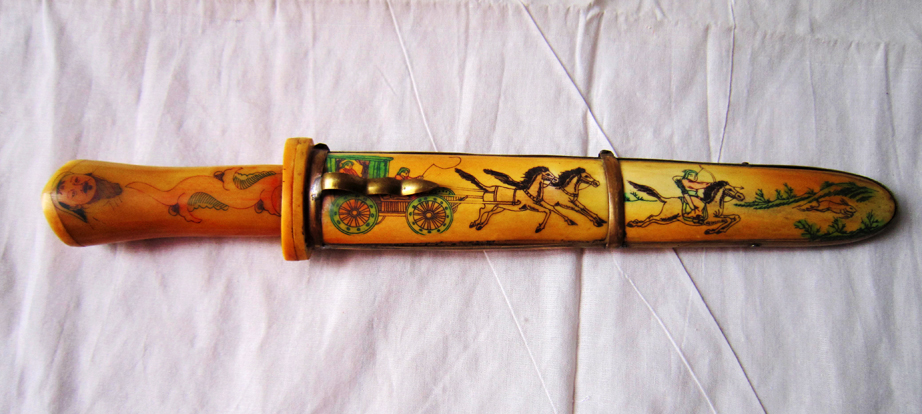knief: (21, 121, 901, 281)
